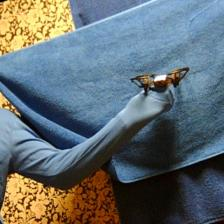drone: (132, 66, 192, 93)
